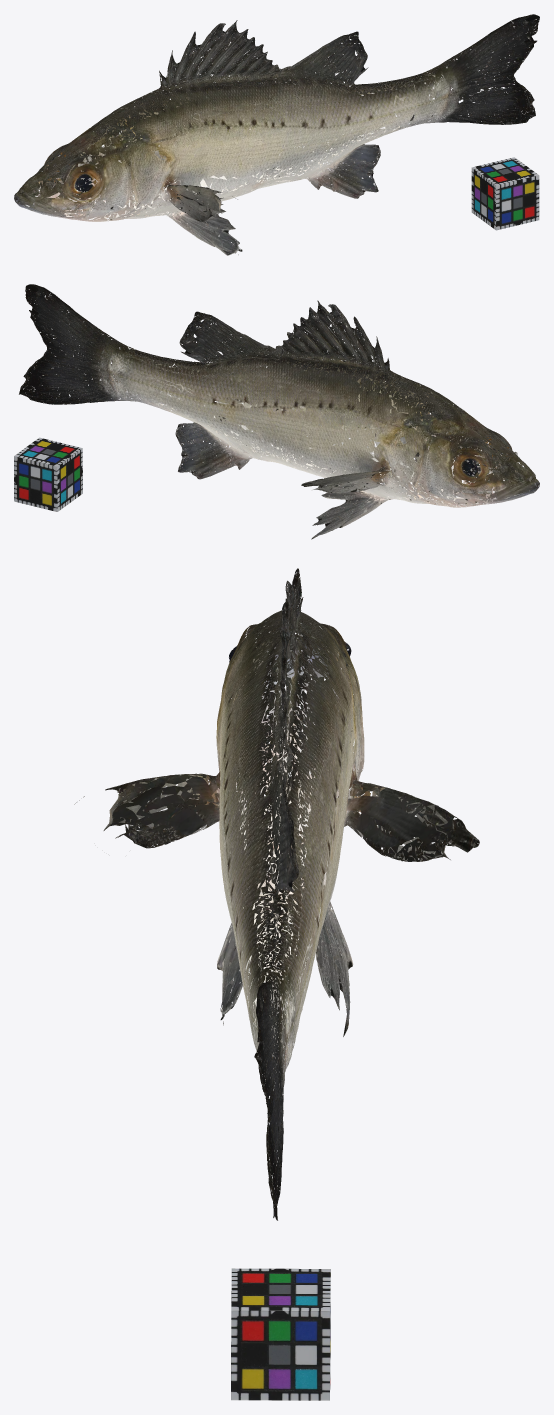
The model's file is scan_seabass.glb.
3 renders of one model, top to bottom at view 1: azimuth 30°, elevation 25°; view 2: azimuth 150°, elevation 25°; view 3: azimuth 270°, elevation 25°, orthographic. The views are drawn at different scales.
Parts seen in each view (by area): view 1: Object_6, Object_11, Object_4; view 2: Object_11, Object_6, Object_4; view 3: Object_11, Object_6, Object_4.
Boxes of the visible parts, x1,y1,x2,y2 form: Object_6: (14, 14, 539, 255); Object_11: (14, 14, 539, 255); Object_4: (471, 157, 539, 230); Object_11: (20, 284, 539, 539); Object_6: (19, 284, 539, 537); Object_4: (14, 437, 82, 511); Object_11: (104, 568, 479, 1217); Object_6: (74, 569, 478, 1220); Object_4: (231, 1268, 330, 1400).
Size of the model in its own units: 10.17 by 4.91 by 3.46.
Materials: 3 (3 with a texture image).
